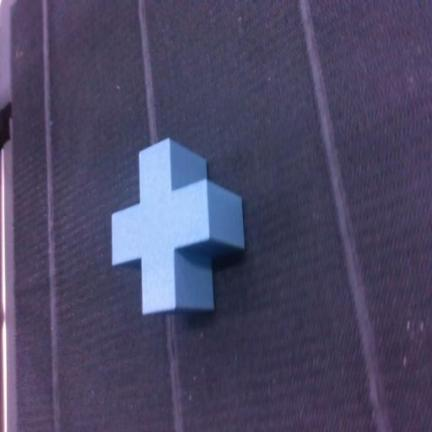cross: (113, 140, 244, 313)
